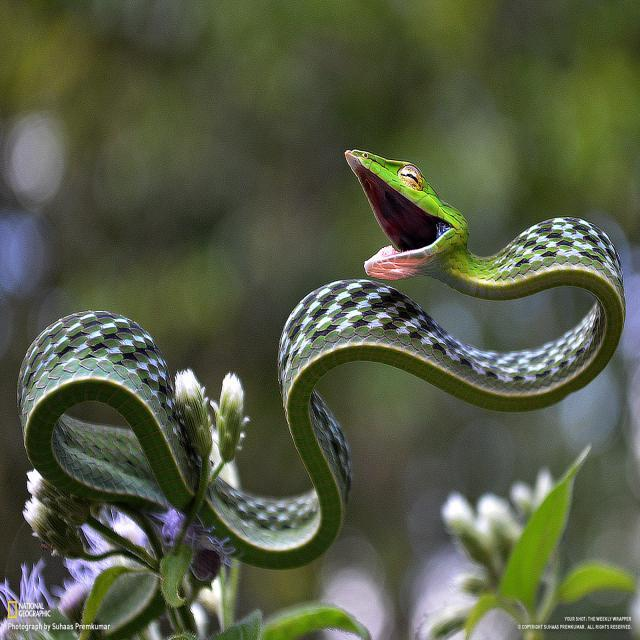Snake: (16, 146, 626, 590)
